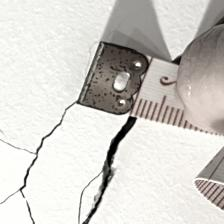Medium: (4, 117, 134, 224)
